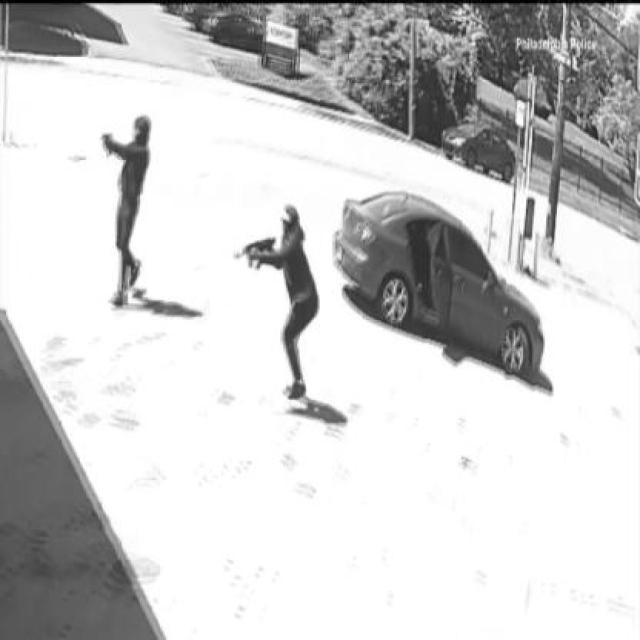weapon: (232, 236, 276, 272), (98, 132, 116, 155)
